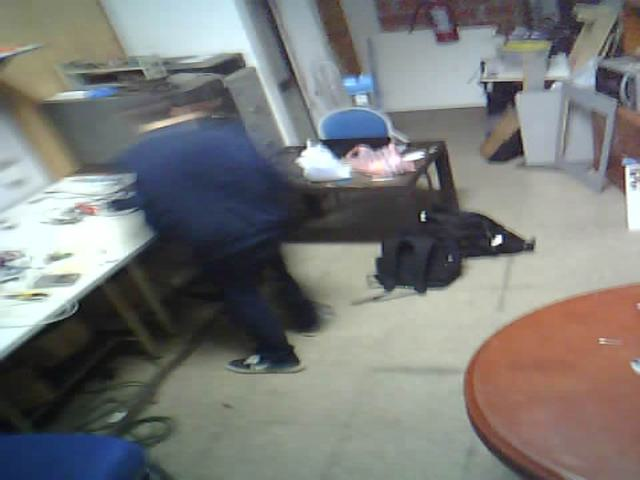person: (108, 79, 338, 397)
